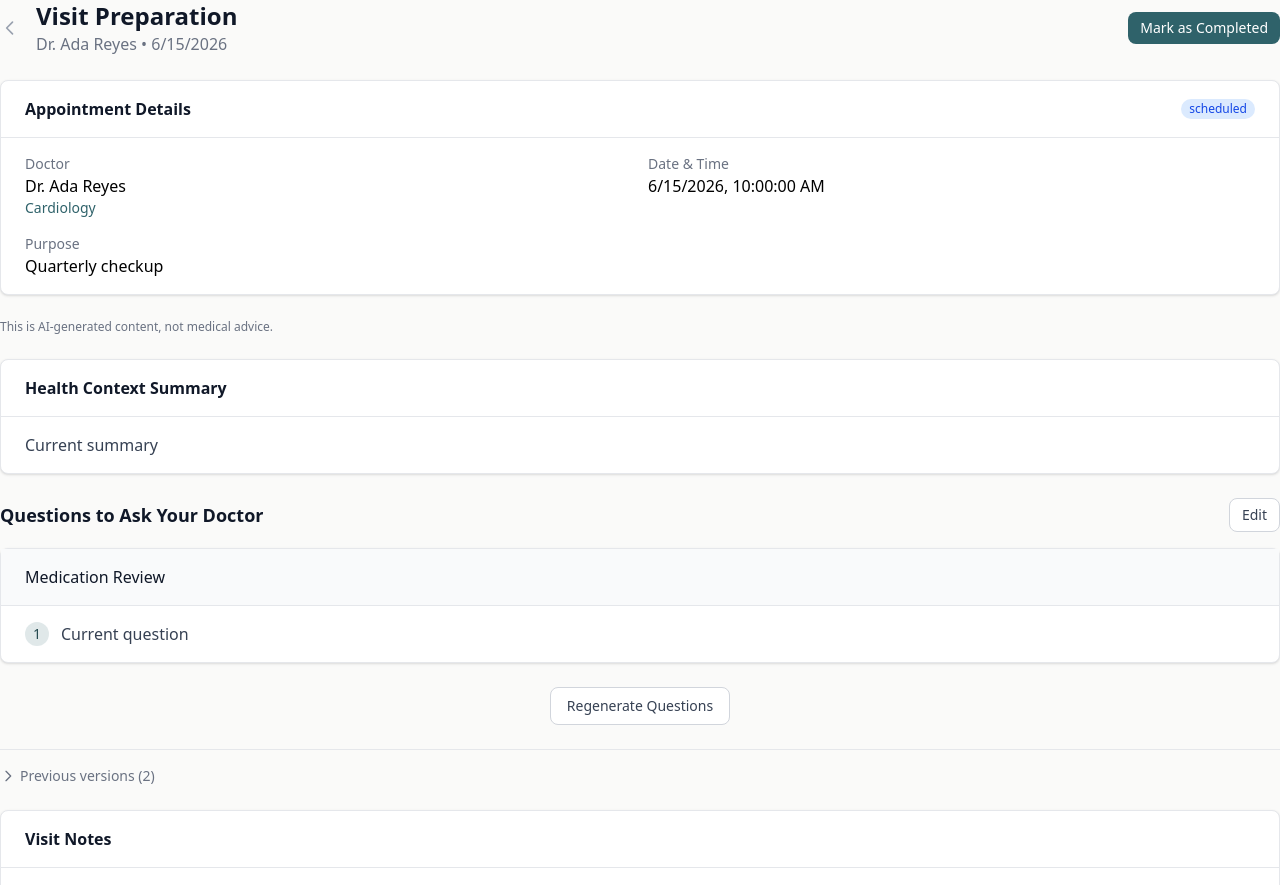
VisitPrep previous-versions disclosure › counts every version and labels each one by its version number
Click the button "Previous versions (2)": (77, 776) 0,766 -> 155,786
(page scrolled)
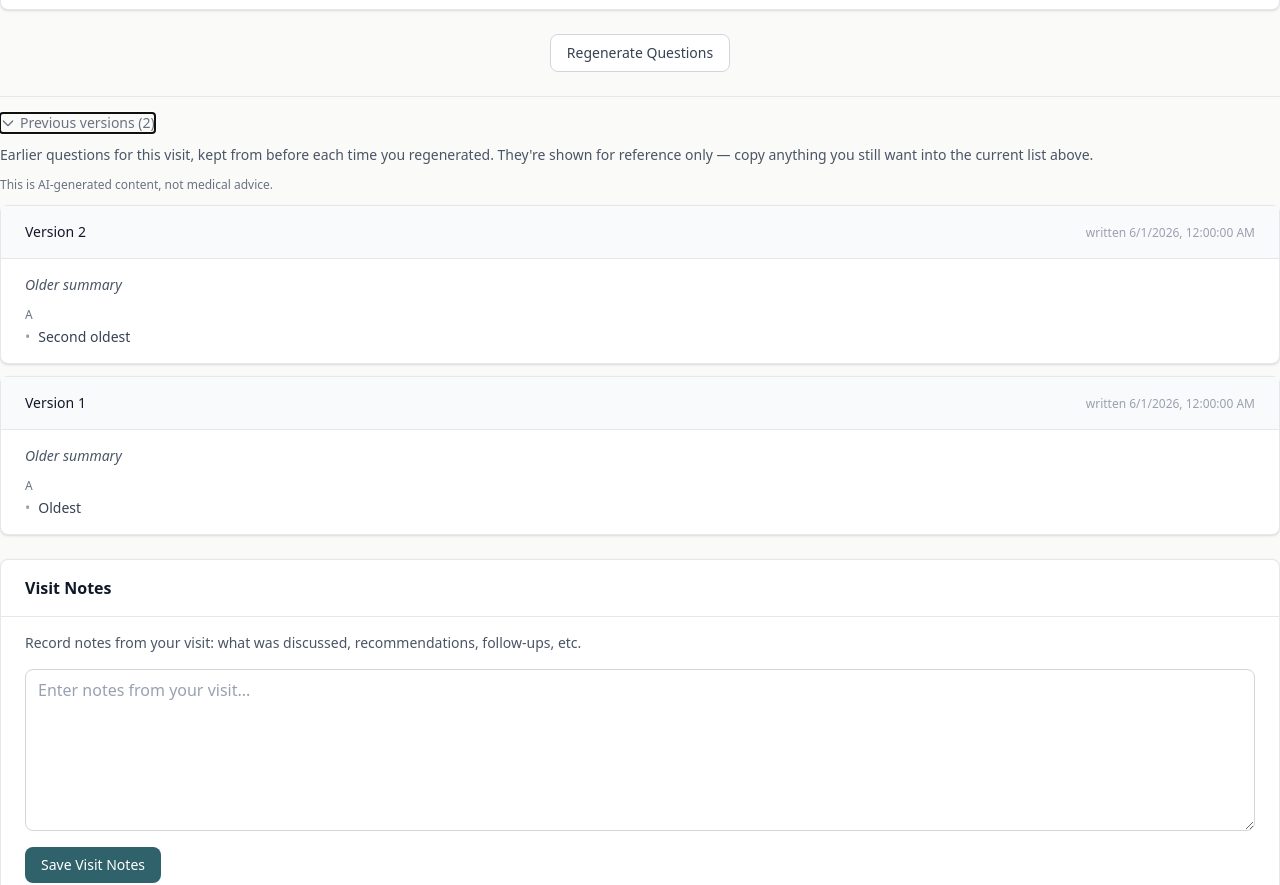
Expected: the heading "Version 2" is shown, 25,222 -> 86,242
Expected: the heading "Version 1" is shown, 25,393 -> 86,413
Expected: the text "Second oldest" is shown, 38,327 -> 130,347
